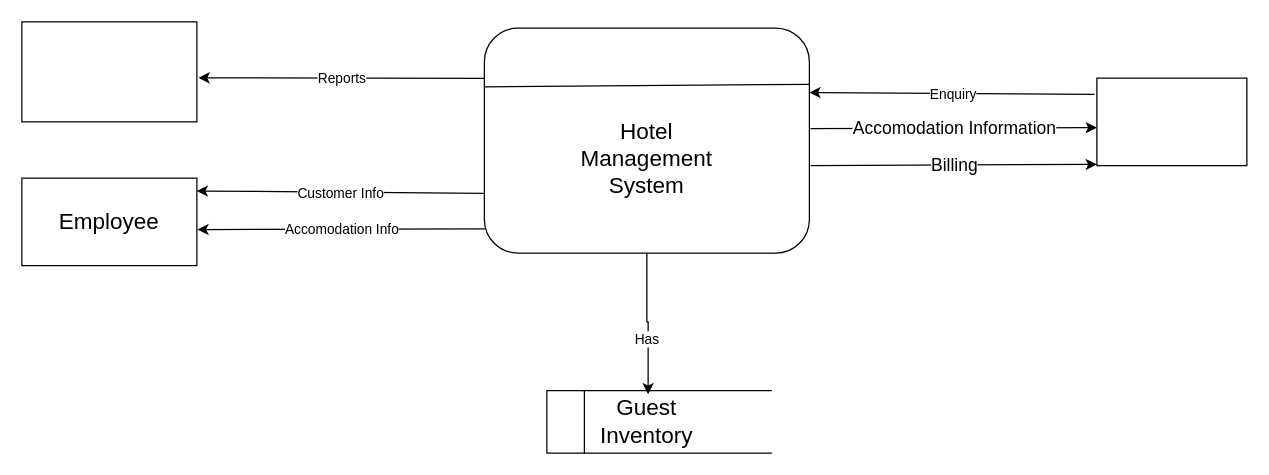
Image size: 1269x475. Some labels were removed from this diagram. The box of each missing label's shape, as (x1, y1, x2, y2) in pixels:
Customer: (1096, 77, 1247, 166)
Manager: (21, 21, 197, 122)
